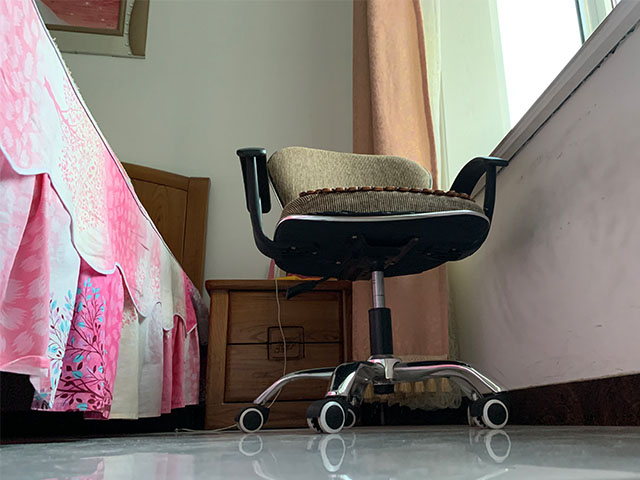bed: (1, 1, 210, 422)
cabinet: (204, 277, 356, 431)
curtain: (353, 1, 463, 411)
stool: (235, 146, 511, 434)
wire: (173, 271, 287, 433)
